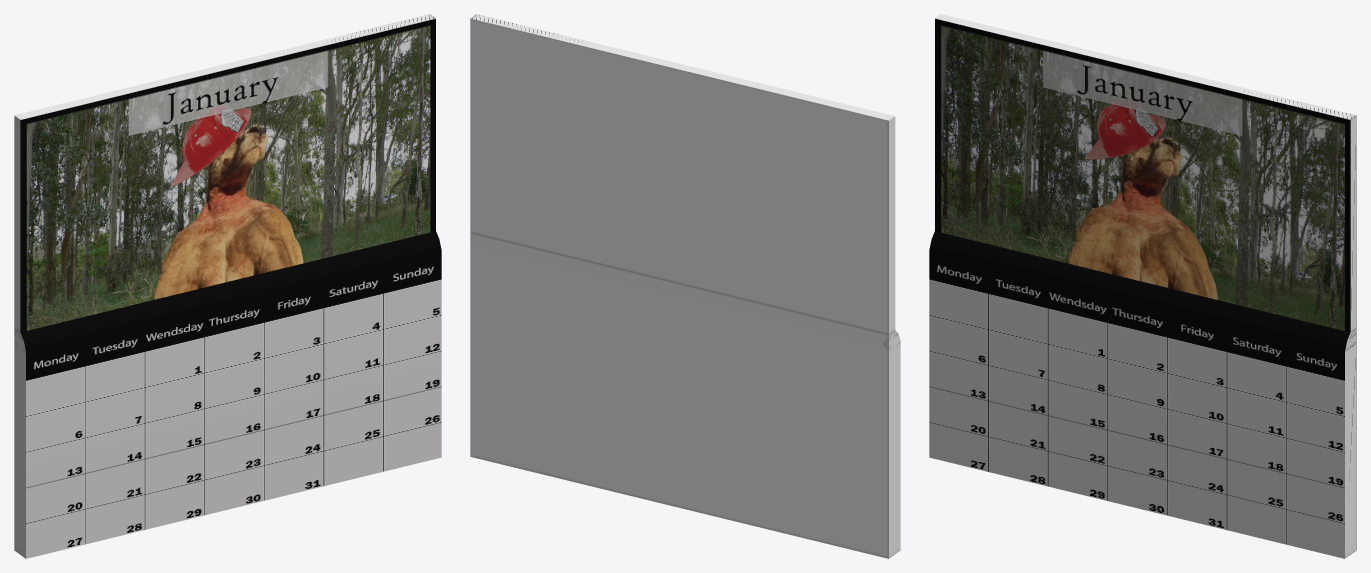
File: calendar.fbx
3 renders of one model, left to right at view 1: azimuth 30°, elevation 25°; view 2: azimuth 150°, elevation 25°; view 3: azimuth 330°, elevation 25°, orthographic.
Visible parts, largest first — view 1: pCube1; view 2: pCube1; view 3: pCube1.
Part boxes in pixels (<box>): pCube1: <box>14,14,441,558</box>; pCube1: <box>470,14,900,558</box>; pCube1: <box>929,14,1356,558</box>.
Size of the model in its own units: 0.2646 by 0.2646 by 0.0129.
